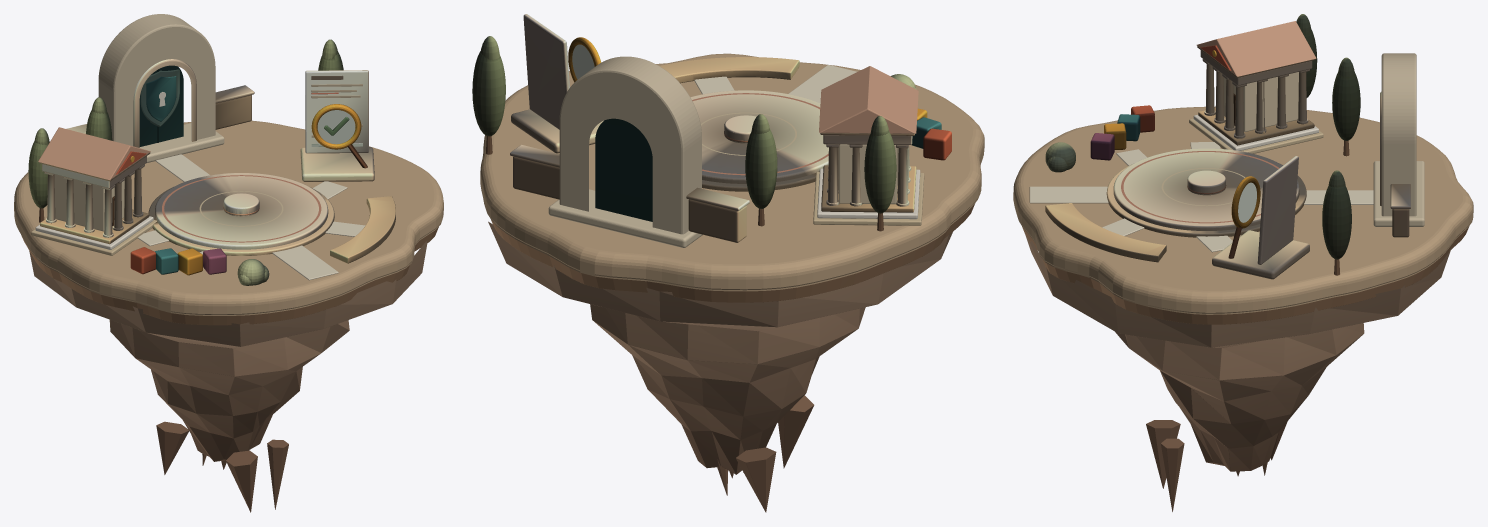
Rendered from baked-3.glb.
3 renders of one model, left to right at view 1: azimuth 30°, elevation 25°; view 2: azimuth 150°, elevation 25°; view 3: azimuth 270°, elevation 25°, orthographic. The views are drawn at different scales.
Parts seen in each view (by area): view 1: lm.001, vl.001; view 2: lm.001, vl.001; view 3: lm.001, vl.001.
Part boxes in pixels (x1,y1,x2,y2): lm.001: (14, 14, 443, 512); vl.001: (28, 39, 395, 285); lm.001: (480, 44, 984, 512); vl.001: (472, 14, 951, 242); lm.001: (1013, 21, 1473, 511); vl.001: (1045, 14, 1410, 279).
Size of the model in its own units: 14.77 by 15.88 by 14.82.
